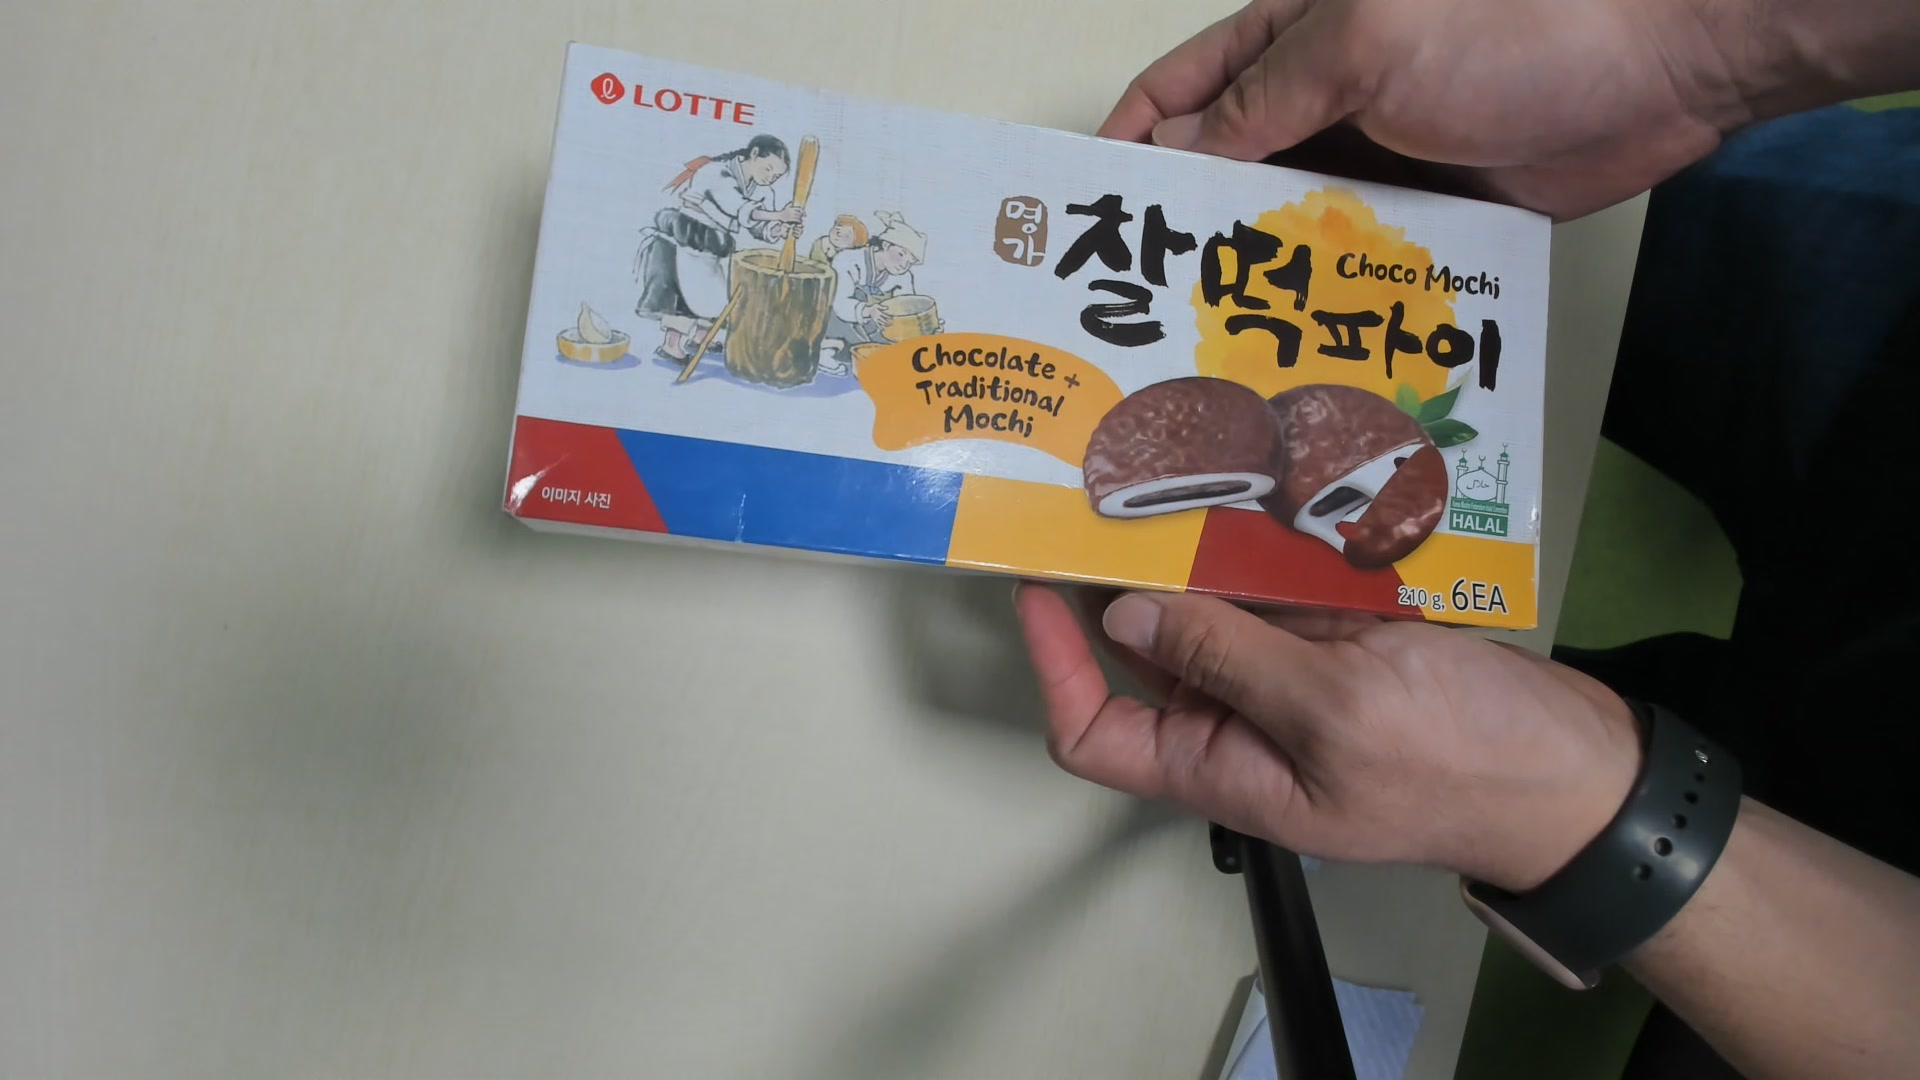SweetsChocolatesOthers_200-299g_NonHalal_Nonhealthy: (491, 41, 1561, 647)
